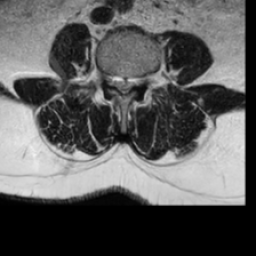CCS_stenosis: (120, 67, 128, 102)
LFS_normal: (136, 67, 145, 92)
LLS_normal: (128, 67, 136, 99)
RFS_normal: (103, 62, 112, 91)
RLS_normal: (112, 65, 120, 96)
